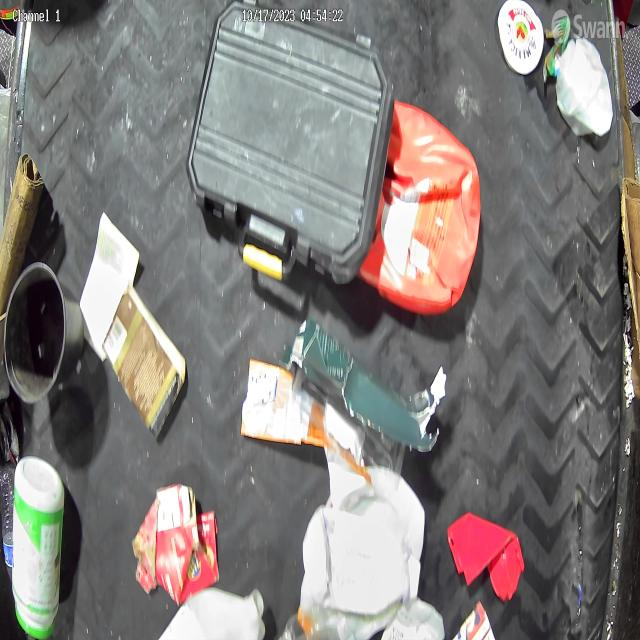milk_jug: (144, 584, 269, 640), (554, 36, 614, 141)
non_white_jug: (358, 100, 482, 313)
